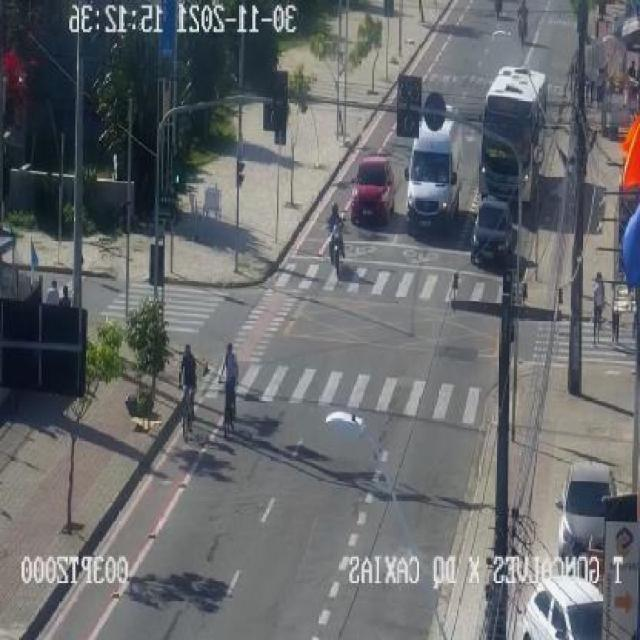Bus: (477, 66, 552, 205)
Car: (470, 202, 513, 266)
Truck: (405, 105, 462, 232), (325, 202, 345, 270)
Van: (348, 156, 397, 231)
